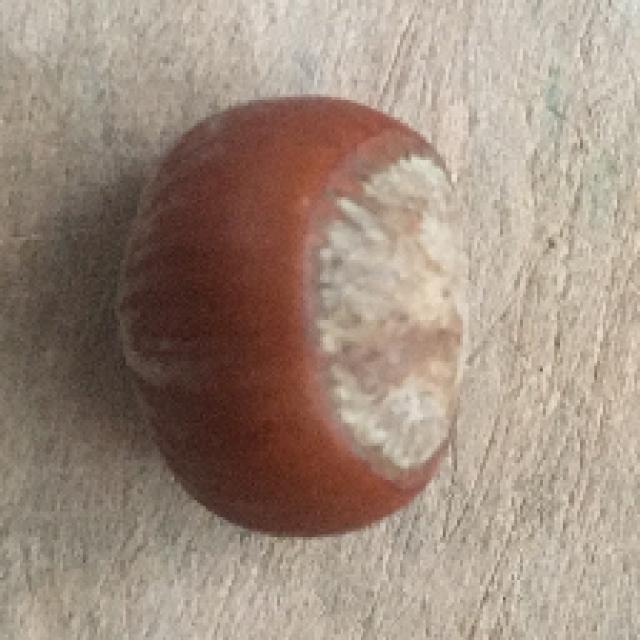qualityHazelnut: (83, 93, 486, 548)
